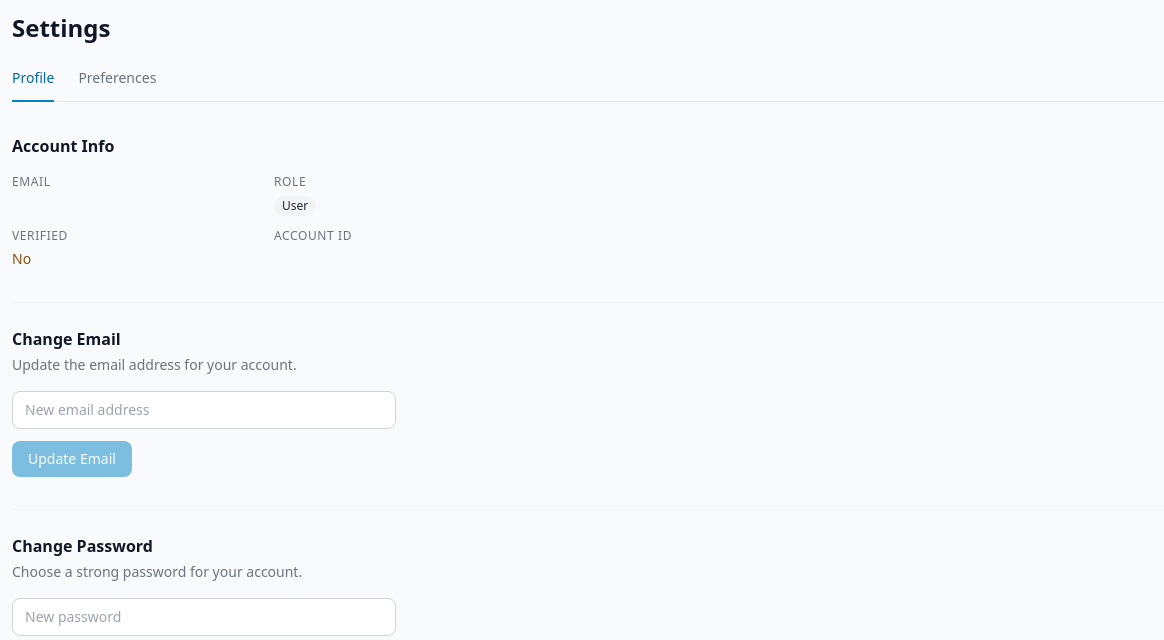
Scenario: Settings page › clicking Preferences tab shows preferences section
Click the button "Preferences" at (117, 85), box [78,68,156,102]
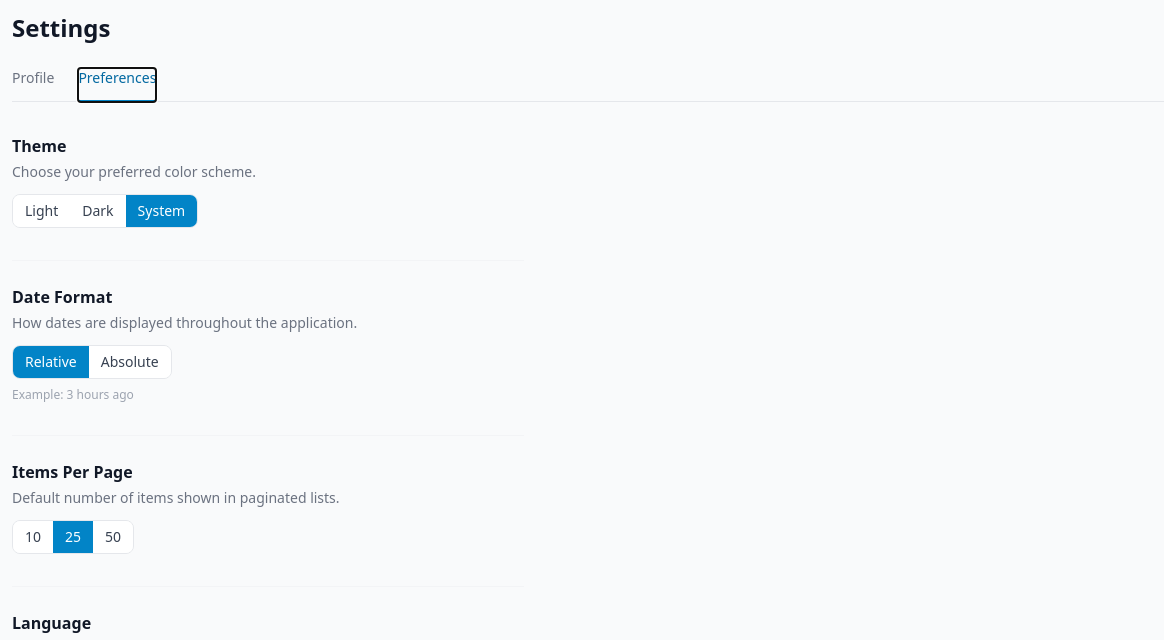
Check: the heading "Theme" is shown, box [12,135,66,157]
Check: the heading "Date Format" is shown, box [12,286,112,308]
Check: the heading "Items Per Page" is shown, box [12,461,133,483]
